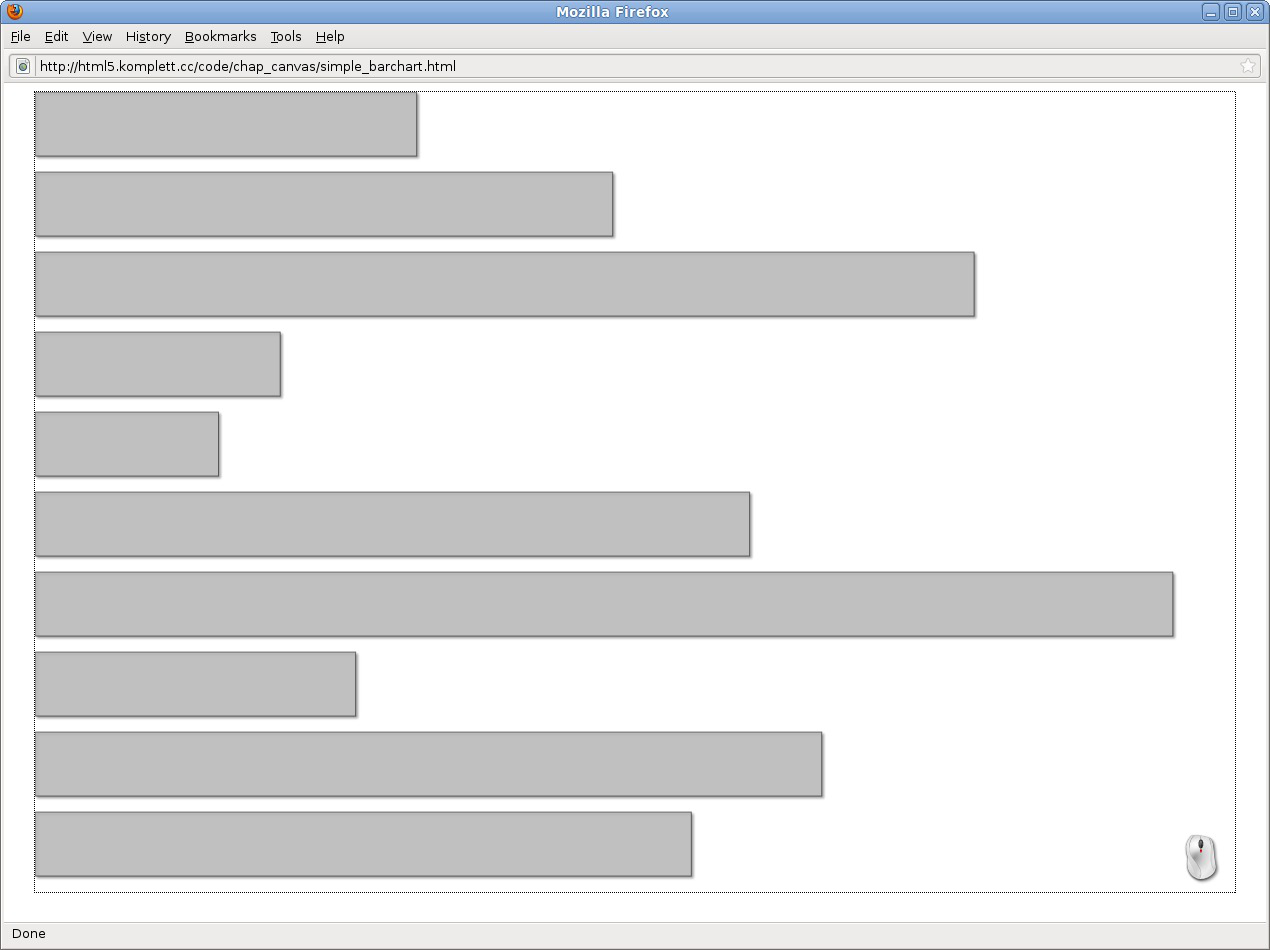canvas: (34, 89, 1183, 891)
